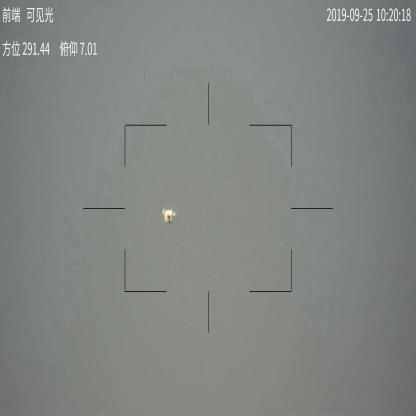uav: (161, 205, 177, 225)
